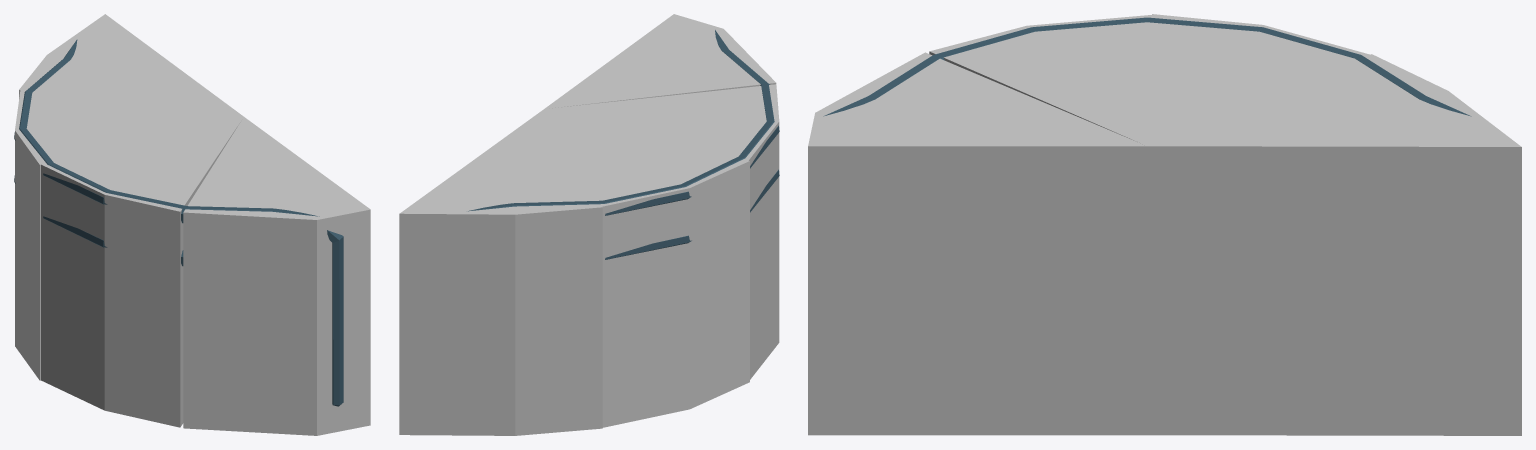
File: SM_Balcony.fbx
3 views of the same model, side by side, from view 1: azimuth 30°, elevation 25°; view 2: azimuth 150°, elevation 25°; view 3: azimuth 270°, elevation 25° (orthographic). The views are drawn at different scales.
Visible parts, largest first — view 1: SM_Balcony_ConvexHulls, SM_Balcony; view 2: SM_Balcony_ConvexHulls, SM_Balcony; view 3: SM_Balcony_ConvexHulls, SM_Balcony.
Boxes of the visible parts, x1,y1,x2,y2 form: SM_Balcony_ConvexHulls: (15, 14, 370, 435); SM_Balcony: (14, 39, 343, 406); SM_Balcony_ConvexHulls: (399, 14, 779, 435); SM_Balcony: (468, 30, 779, 259); SM_Balcony_ConvexHulls: (808, 14, 1521, 435); SM_Balcony: (823, 17, 1471, 116).
Size of the model in its own units: 133 by 301 by 135.
Materials: 2 (1 with a texture image).
